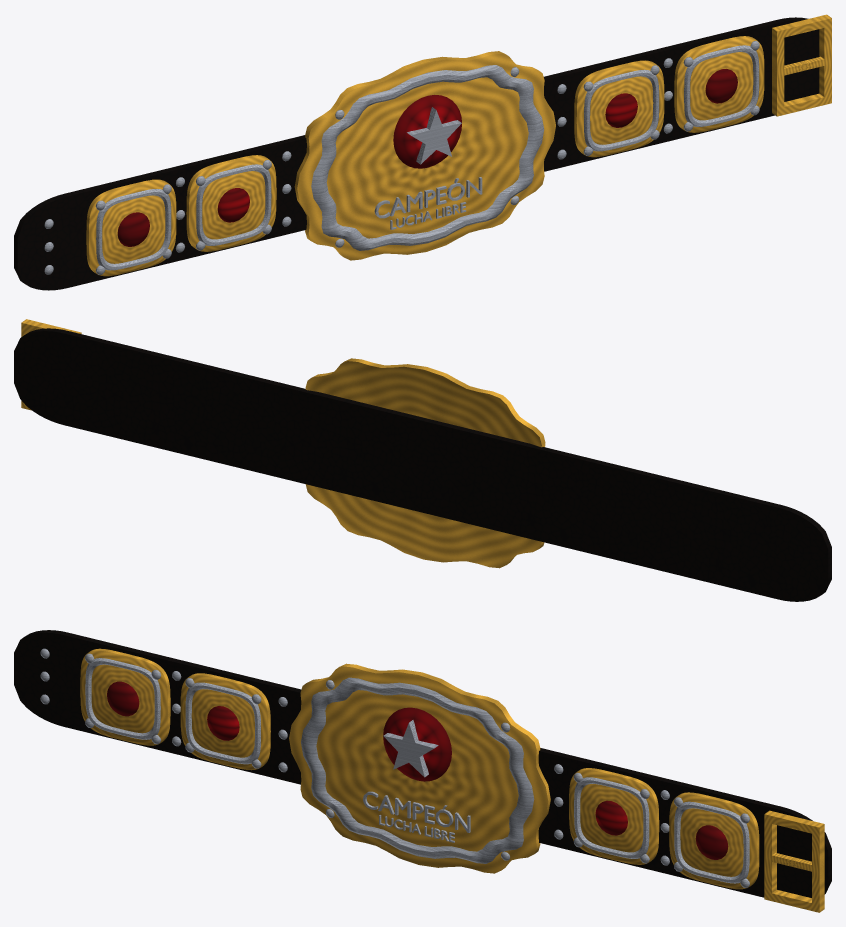
File: cinturon_neutro.obj
The picture shows the model from 3 angles, top to bottom: view 1: azimuth 30°, elevation 25°; view 2: azimuth 150°, elevation 25°; view 3: azimuth 330°, elevation 25°; orthographic projection.
Visible parts, largest first — view 1: Placa_Central_Neutro, Correa_Cinturon_Neutro, Marco_Central_Neutro, Marcos_Laterales_Neutro, Placa_Lateral_Izq_01_Neutro, Placa_Lateral_Izq_02_Neutro, Placa_Lateral_Der_02_Neutro, Placa_Lateral_Der_01_Neutro, Hebilla_Neutro, Gemas_Laterales_Neutro, Medallon_Central_Neutro, Remaches_Neutro (+3 smaller); view 2: Correa_Cinturon_Neutro, Placa_Central_Neutro; view 3: Placa_Central_Neutro, Correa_Cinturon_Neutro, Marco_Central_Neutro, Marcos_Laterales_Neutro, Placa_Lateral_Der_02_Neutro, Placa_Lateral_Izq_02_Neutro, Placa_Lateral_Der_01_Neutro, Placa_Lateral_Izq_01_Neutro, Hebilla_Neutro, Gemas_Laterales_Neutro, Medallon_Central_Neutro, Remaches_Neutro (+3 smaller).
Boxes of the visible parts, x1,y1,x2,y2 form: Placa_Central_Neutro: [294, 51, 555, 260]; Correa_Cinturon_Neutro: [14, 17, 819, 290]; Marco_Central_Neutro: [311, 65, 544, 250]; Marcos_Laterales_Neutro: [96, 45, 759, 270]; Placa_Lateral_Izq_01_Neutro: [186, 155, 276, 251]; Placa_Lateral_Izq_02_Neutro: [86, 179, 176, 276]; Placa_Lateral_Der_02_Neutro: [674, 36, 764, 132]; Placa_Lateral_Der_01_Neutro: [574, 60, 664, 157]; Hebilla_Neutro: [772, 14, 831, 116]; Gemas_Laterales_Neutro: [117, 69, 737, 246]; Medallon_Central_Neutro: [393, 95, 461, 168]; Remaches_Neutro: [44, 41, 759, 274]; Correa_Cinturon_Neutro: [14, 328, 831, 601]; Placa_Central_Neutro: [305, 358, 545, 568]; Placa_Central_Neutro: [289, 663, 550, 873]; Correa_Cinturon_Neutro: [14, 630, 831, 897]; Marco_Central_Neutro: [301, 677, 534, 863]; Marcos_Laterales_Neutro: [85, 658, 749, 883]; Placa_Lateral_Der_02_Neutro: [669, 792, 759, 889]; Placa_Lateral_Izq_02_Neutro: [80, 648, 170, 745]; Placa_Lateral_Der_01_Neutro: [569, 768, 659, 864]; Placa_Lateral_Izq_01_Neutro: [180, 673, 270, 770]; Hebilla_Neutro: [764, 810, 824, 912]; Gemas_Laterales_Neutro: [107, 681, 728, 859]; Medallon_Central_Neutro: [383, 707, 451, 781]; Remaches_Neutro: [40, 648, 749, 887].
Bounding box in the file's own units: 1.3 × 0.2898 × 0.044.
Materials: 4 (4 with a texture image).
